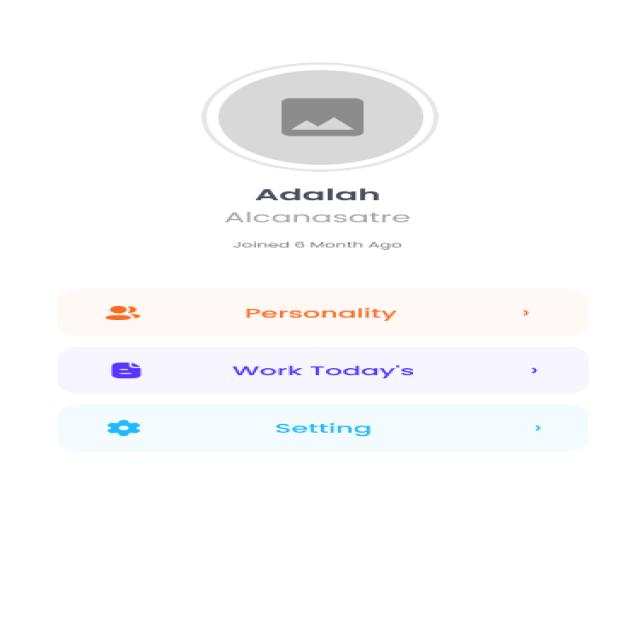button: (40, 279, 621, 342), (38, 403, 616, 462), (43, 346, 619, 400)
image: (174, 49, 457, 181)
text: (197, 182, 457, 263)
